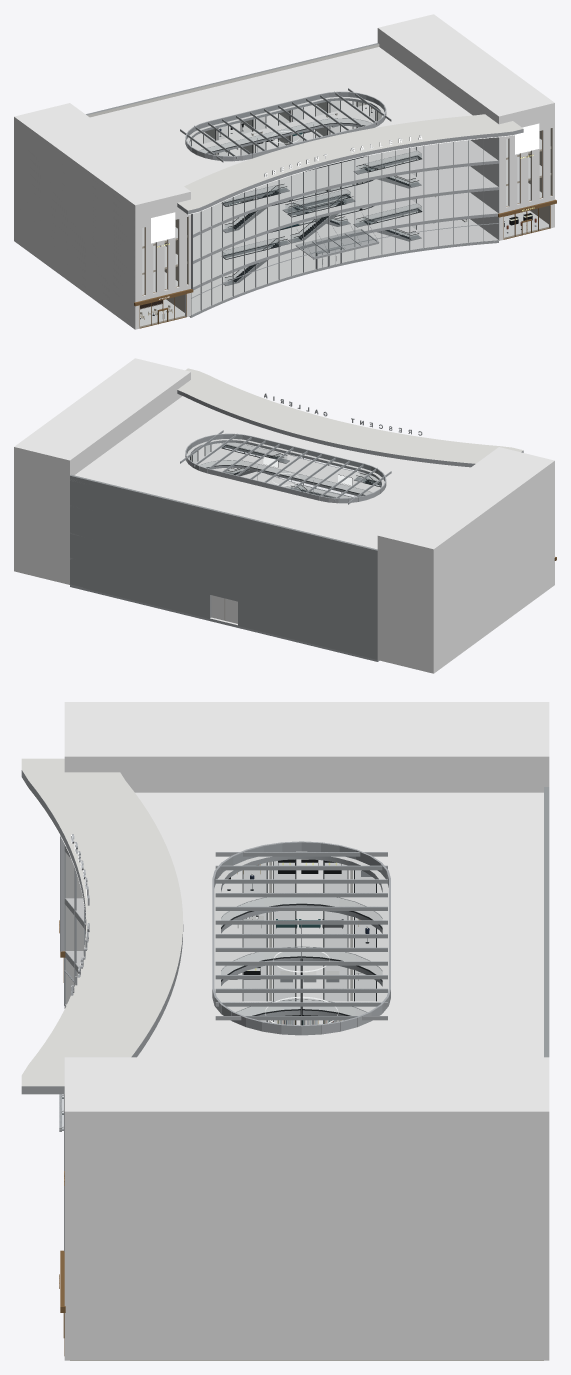
Rendered from crescent_galleria_lod0.glb.
3 views of the same model, one above another, from view 1: azimuth 30°, elevation 25°; view 2: azimuth 150°, elevation 25°; view 3: azimuth 270°, elevation 25° (orthographic). The views are drawn at different scales.
Parts seen in each view (by area): view 1: P15_LOD0_BUILDING_EXTERIOR_Bookends, P15_LOD0_BUILDING_INTERIOR_Slabs, P15_LOD0_GLASS_SYSTEM_CrescentGlass, P15_LOD0_BUILDING_EXTERIOR_Roof, P15_LOD0_FACADE_DETAILS_Crescent, P15_LOD0_GLASS_SYSTEM_CrescentFrame, P15_LOD0_GLASS_SYSTEM_SkylightFrame, P15_LOD0_BUILDING_INTERIOR_BookendFloors, P15_LOD0_SIGNAGE_Brand, P15_LOD0_GLASS_SYSTEM_BookShop1Glass, P15_LOD0_GLASS_SYSTEM_BookShop-1Glass, P15_LOD0_BUILDING_INTERIOR_ShopShells (+7 smaller); view 2: P15_LOD0_BUILDING_EXTERIOR_Bookends, P15_LOD0_BUILDING_EXTERIOR_Roof, P15_LOD0_FACADE_DETAILS_Crescent, P15_LOD0_BUILDING_INTERIOR_Slabs, P15_LOD0_GLASS_SYSTEM_SkylightFrame, P15_LOD0_BUILDING_INTERIOR_ShopShells; view 3: P15_LOD0_BUILDING_EXTERIOR_Bookends, P15_LOD0_BUILDING_EXTERIOR_Roof, P15_LOD0_FACADE_DETAILS_Crescent, P15_LOD0_BUILDING_INTERIOR_Slabs, P15_LOD0_GLASS_SYSTEM_SkylightFrame, P15_LOD0_DISPLAY_OBJECTS_ShopDisplays, P15_LOD0_GLASS_SYSTEM_CrescentGlass, P15_LOD0_GLASS_SYSTEM_CrescentFrame, P15_LOD0_GLASS_SYSTEM_Shopfronts.
Boxes of the visible parts, left/top/right/bottom form: P15_LOD0_BUILDING_EXTERIOR_Bookends: left=14, top=14, right=556, bottom=329; P15_LOD0_BUILDING_INTERIOR_Slabs: left=189, top=100, right=498, bottom=317; P15_LOD0_GLASS_SYSTEM_CrescentGlass: left=192, top=138, right=498, bottom=313; P15_LOD0_BUILDING_EXTERIOR_Roof: left=90, top=47, right=472, bottom=186; P15_LOD0_FACADE_DETAILS_Crescent: left=177, top=114, right=523, bottom=259; P15_LOD0_GLASS_SYSTEM_CrescentFrame: left=191, top=137, right=499, bottom=315; P15_LOD0_GLASS_SYSTEM_SkylightFrame: left=180, top=88, right=391, bottom=162; P15_LOD0_BUILDING_INTERIOR_BookendFloors: left=140, top=139, right=551, bottom=327; P15_LOD0_SIGNAGE_Brand: left=151, top=123, right=539, bottom=299; P15_LOD0_GLASS_SYSTEM_BookShop1Glass: left=504, top=206, right=549, bottom=238; P15_LOD0_GLASS_SYSTEM_BookShop-1Glass: left=140, top=295, right=185, bottom=327; P15_LOD0_BUILDING_INTERIOR_ShopShells: left=204, top=101, right=383, bottom=202; P15_LOD0_BUILDING_EXTERIOR_Bookends: left=14, top=358, right=556, bottom=673; P15_LOD0_BUILDING_EXTERIOR_Roof: left=70, top=396, right=470, bottom=549; P15_LOD0_FACADE_DETAILS_Crescent: left=177, top=368, right=523, bottom=467; P15_LOD0_BUILDING_INTERIOR_Slabs: left=70, top=442, right=381, bottom=661; P15_LOD0_GLASS_SYSTEM_SkylightFrame: left=180, top=430, right=391, bottom=504; P15_LOD0_BUILDING_INTERIOR_ShopShells: left=189, top=455, right=237, bottom=623; P15_LOD0_BUILDING_EXTERIOR_Bookends: left=60, top=702, right=549, bottom=1360; P15_LOD0_BUILDING_EXTERIOR_Roof: left=135, top=792, right=543, bottom=1057; P15_LOD0_FACADE_DETAILS_Crescent: left=21, top=758, right=183, bottom=1131; P15_LOD0_BUILDING_INTERIOR_Slabs: left=64, top=859, right=382, bottom=1025; P15_LOD0_GLASS_SYSTEM_SkylightFrame: left=212, top=841, right=390, bottom=1035; P15_LOD0_DISPLAY_OBJECTS_ShopDisplays: left=227, top=859, right=371, bottom=1025; P15_LOD0_GLASS_SYSTEM_CrescentGlass: left=65, top=853, right=85, bottom=1004; P15_LOD0_GLASS_SYSTEM_CrescentFrame: left=60, top=836, right=85, bottom=1251; P15_LOD0_GLASS_SYSTEM_Shopfronts: left=242, top=859, right=376, bottom=1024.
Size of the model in its own units: 90.4 by 25.9 by 49.01.
